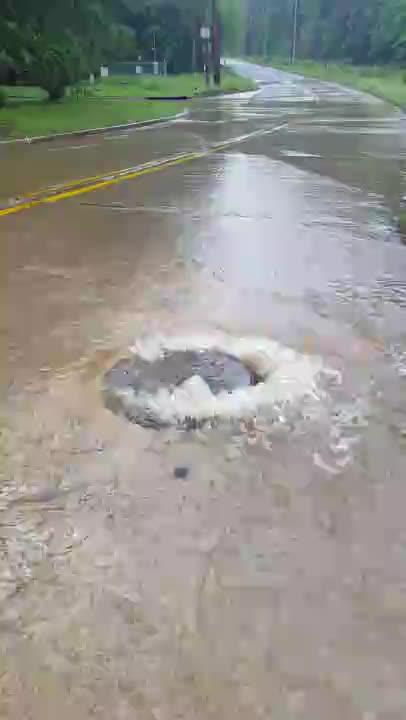drainage_overflow: (89, 289, 301, 559)
